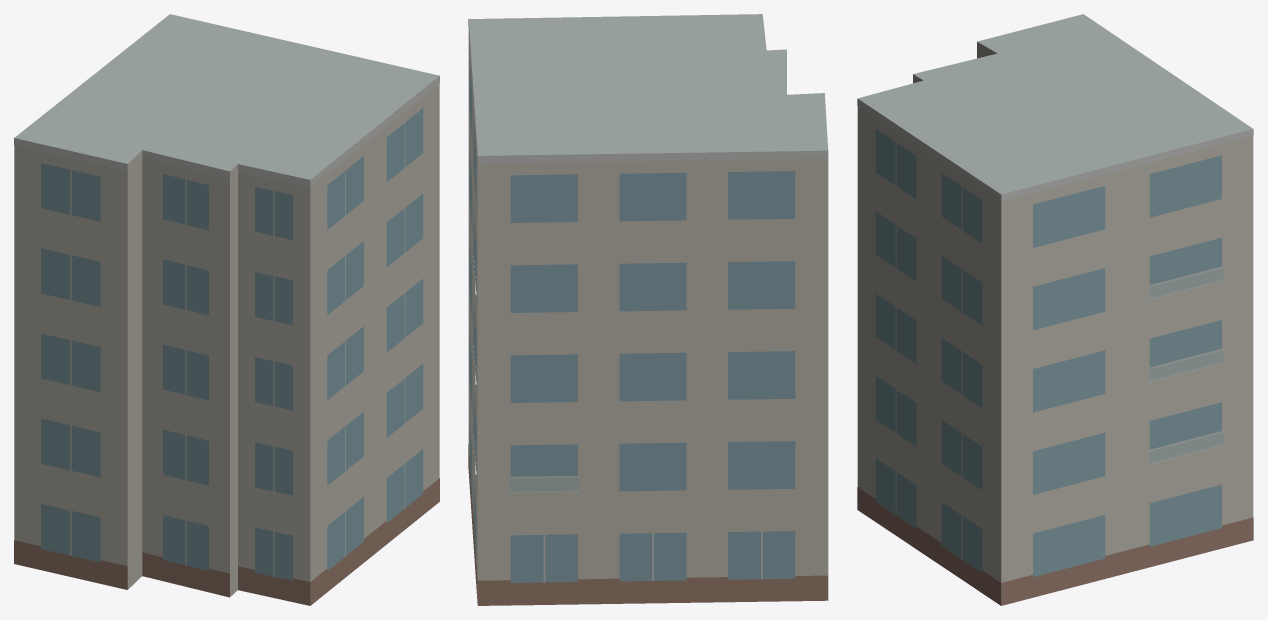
Rendered from survey-upis-32763433.glb.
3 views of the same model, side by side, from view 1: azimuth 30°, elevation 25°; view 2: azimuth 150°, elevation 25°; view 3: azimuth 270°, elevation 25° (orthographic). The views are drawn at different scales.
Parts seen in each view (by area): view 1: survey-upis-32763433.tmp; view 2: survey-upis-32763433.tmp; view 3: survey-upis-32763433.tmp.
Boxes of the visible parts, box(x1,y1,x2,y2) form: survey-upis-32763433.tmp: box(14, 14, 439, 605); survey-upis-32763433.tmp: box(468, 14, 828, 605); survey-upis-32763433.tmp: box(857, 14, 1253, 605).
Bounding box in the file's own units: 13.32 × 14.15 × 12.35.
